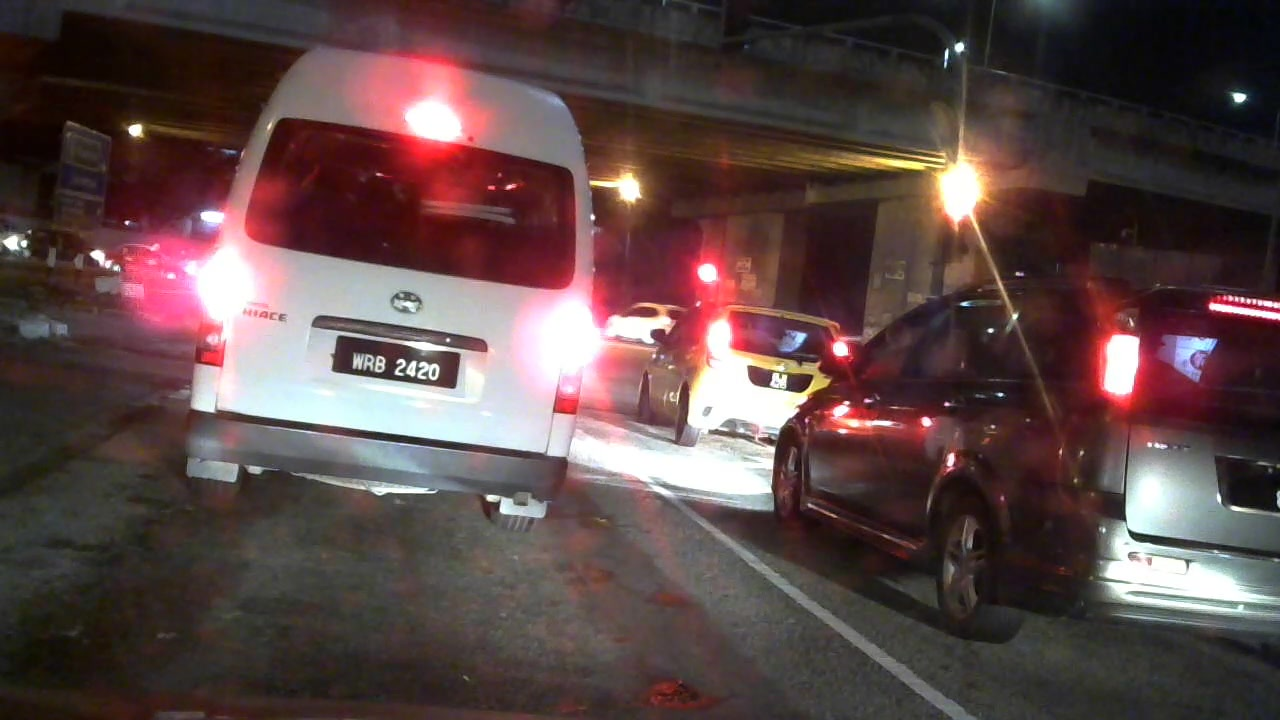Car: (164, 46, 646, 520), (761, 258, 1279, 680), (624, 295, 839, 427), (604, 283, 676, 346)
